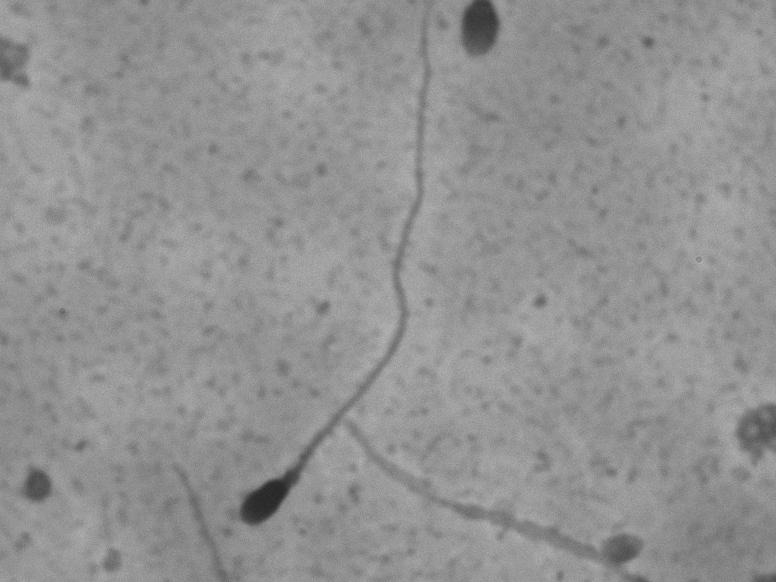Abnormal: (225, 10, 441, 537)
